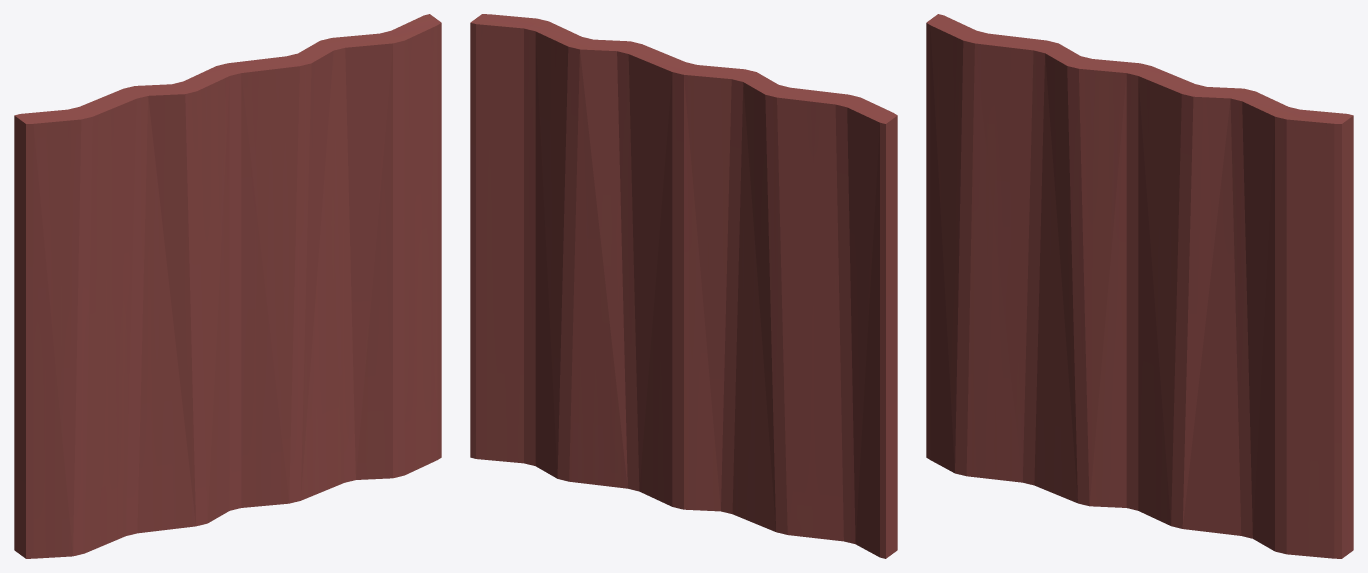
File: wall_metal_2.dae
3 views of the same model, side by side, from view 1: azimuth 30°, elevation 25°; view 2: azimuth 150°, elevation 25°; view 3: azimuth 330°, elevation 25° (orthographic).
Parts seen in each view (by area): view 1: wall_metal_2; view 2: wall_metal_2; view 3: wall_metal_2.
Part boxes in pixels (x1,y1,x2,y2): wall_metal_2: [14, 14, 441, 558]; wall_metal_2: [470, 14, 897, 558]; wall_metal_2: [926, 14, 1353, 558].
Size of the model in its own units: 2 by 0.1751 by 2.
